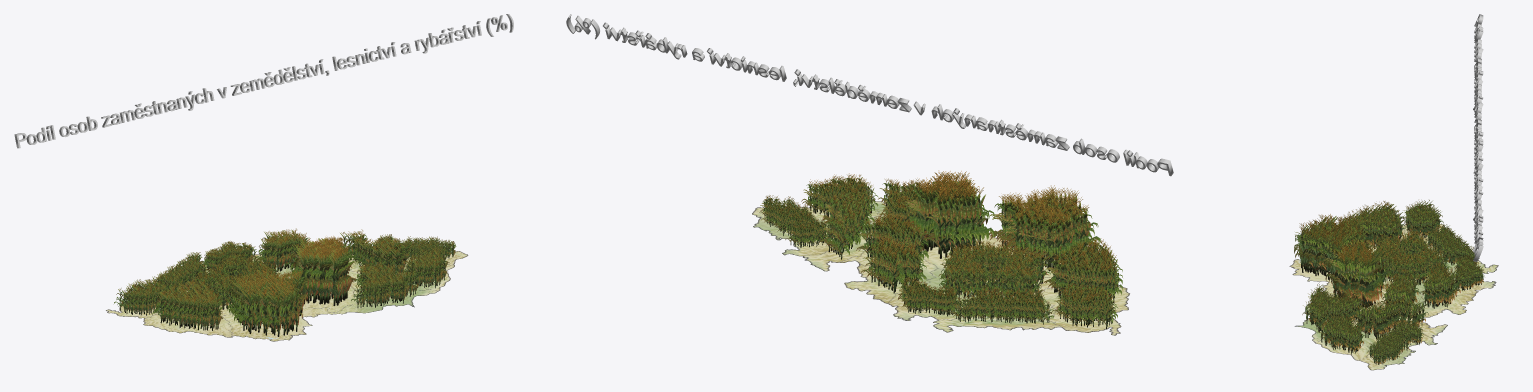
File: zam_v_zem_les_ryb.glb
The picture shows the model from 3 angles, left to right: view 1: azimuth 30°, elevation 25°; view 2: azimuth 150°, elevation 25°; view 3: azimuth 270°, elevation 25°; orthographic projection. The views are drawn at different scales.
Parts seen in each view (by area): view 1: Relief_Map_of_Czech_Republic (1), Text; view 2: Relief_Map_of_Czech_Republic (1), Text; view 3: Relief_Map_of_Czech_Republic (1), Text, corn.001.
Part boxes in pixels (x1,y1,x2,y2): Relief_Map_of_Czech_Republic (1): [106, 249, 468, 341]; Text: [14, 14, 513, 148]; Relief_Map_of_Czech_Republic (1): [752, 199, 1129, 335]; Text: [566, 14, 1173, 176]; Relief_Map_of_Czech_Republic (1): [1289, 223, 1498, 370]; Text: [1473, 14, 1483, 261]; corn.001: [1355, 259, 1376, 307].
Size of the model in its own units: 308 by 106 by 139.
21 materials, 20 textured.
